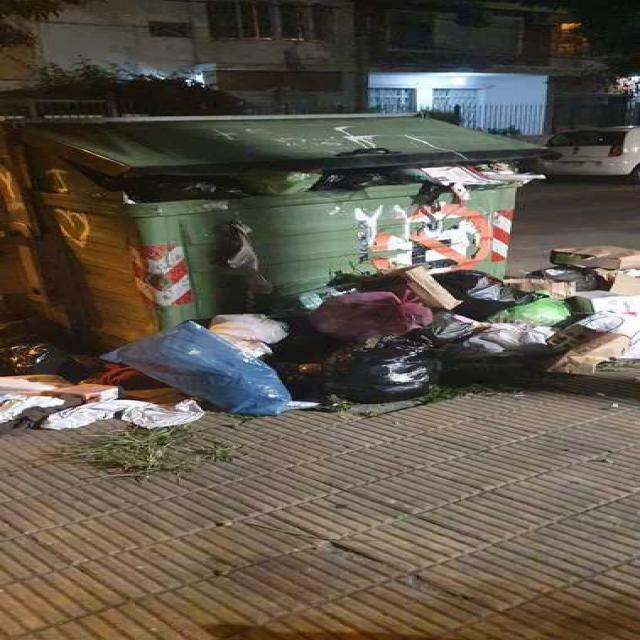garbage: (0, 292, 637, 400), (380, 246, 638, 288), (145, 174, 539, 196), (29, 398, 245, 424)
